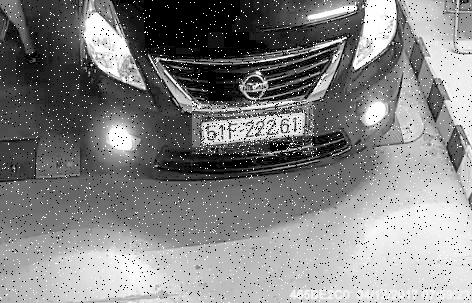License-plate: (194, 103, 316, 157)
